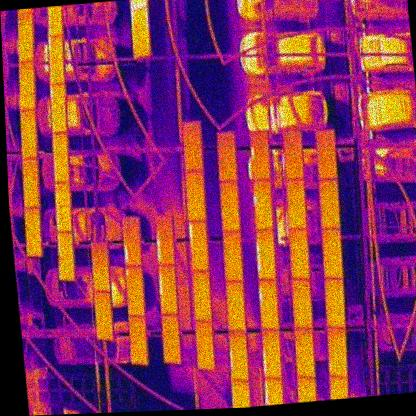Diode: (257, 279, 281, 332), (259, 327, 283, 379), (188, 220, 211, 273), (254, 228, 277, 281), (227, 330, 250, 382), (154, 215, 177, 266), (157, 264, 179, 316), (46, 34, 68, 85), (122, 216, 143, 267), (130, 9, 151, 58), (49, 85, 69, 133)
Hotspot: (247, 129, 272, 181), (251, 180, 275, 231), (125, 265, 146, 318)
Normal: (283, 178, 309, 230), (314, 129, 339, 180), (281, 127, 305, 180), (218, 179, 242, 232), (317, 177, 341, 230), (323, 278, 347, 330), (320, 227, 344, 278), (221, 230, 244, 283), (287, 229, 310, 282), (224, 280, 247, 333), (181, 120, 204, 172), (215, 130, 238, 182), (184, 170, 207, 222), (290, 277, 313, 329), (293, 327, 316, 379), (326, 326, 349, 378), (193, 319, 216, 370), (20, 156, 42, 208), (191, 269, 212, 322), (14, 12, 36, 62), (160, 313, 181, 365), (90, 241, 111, 292), (55, 231, 76, 281), (16, 61, 37, 111), (54, 182, 73, 235), (19, 108, 39, 158), (93, 291, 113, 341), (51, 132, 70, 184), (23, 207, 43, 255), (128, 316, 148, 364)
